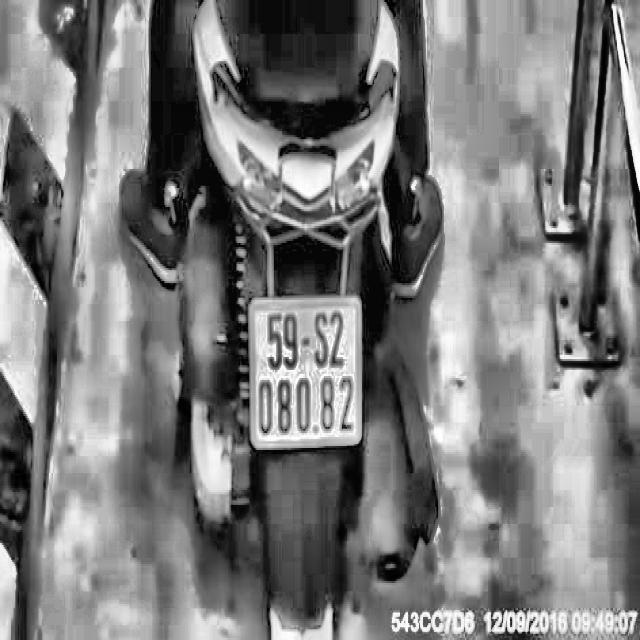plate: (242, 281, 368, 456)
